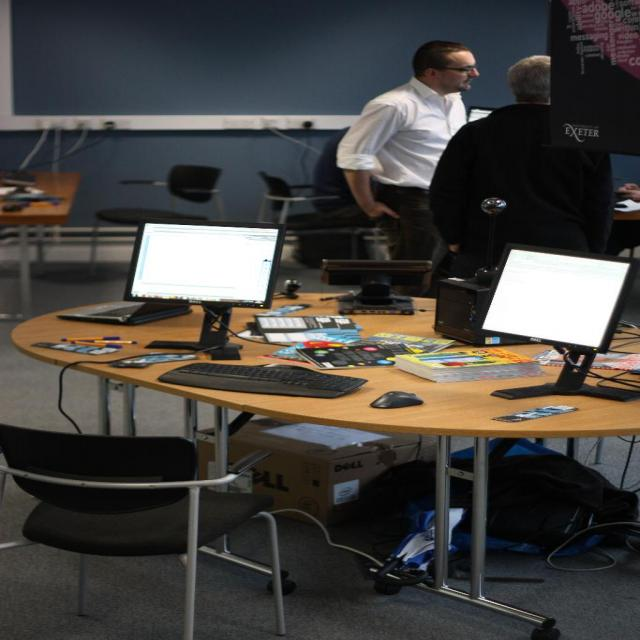chair: (0, 423, 292, 639), (256, 172, 374, 266), (94, 164, 226, 224)
desk: (8, 294, 639, 640)
keyboard: (158, 361, 370, 399)
laptop: (53, 220, 272, 326)
mouse: (369, 391, 425, 408)
person: (427, 55, 615, 285), (334, 40, 479, 264)
tv: (479, 243, 637, 355), (124, 220, 286, 311)
